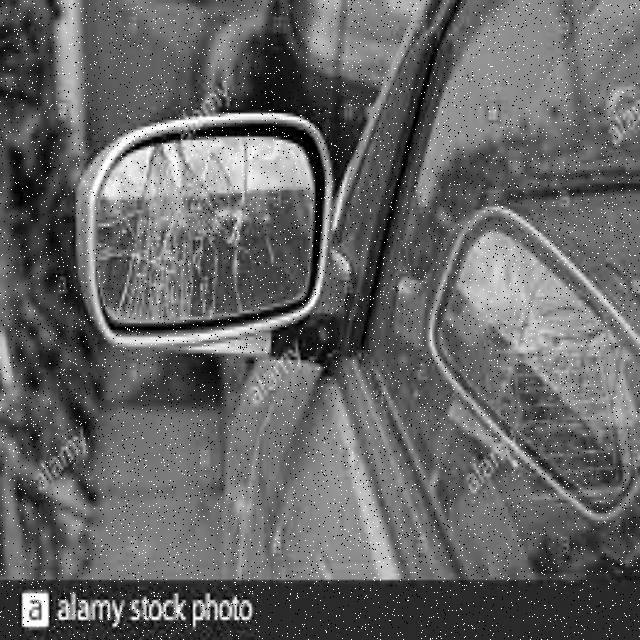Sidemirror-Damage: (64, 94, 372, 364)
